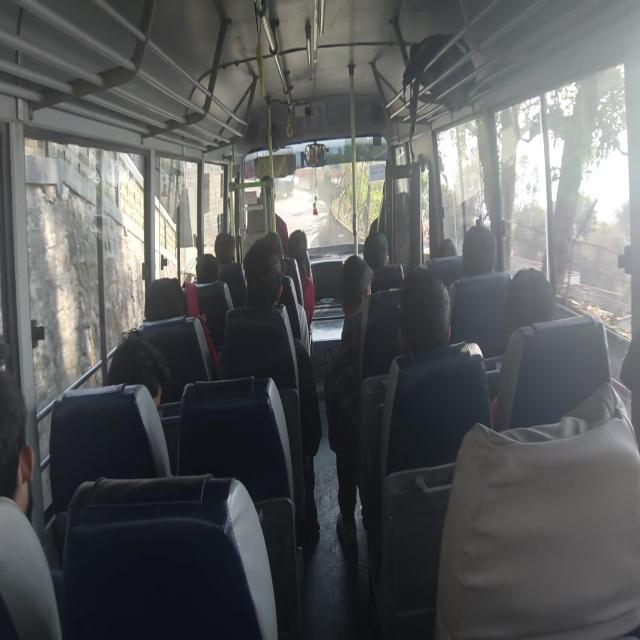person: (390, 280, 460, 346), (0, 389, 45, 489), (506, 266, 563, 337), (100, 337, 163, 391), (142, 278, 200, 326), (610, 332, 640, 418), (364, 216, 403, 266), (246, 249, 280, 306), (336, 255, 372, 295), (466, 225, 502, 262), (194, 250, 226, 289), (212, 233, 248, 262), (261, 231, 282, 264), (438, 236, 460, 256), (289, 234, 306, 258)
